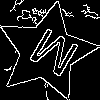M: (21, 26, 81, 87)
